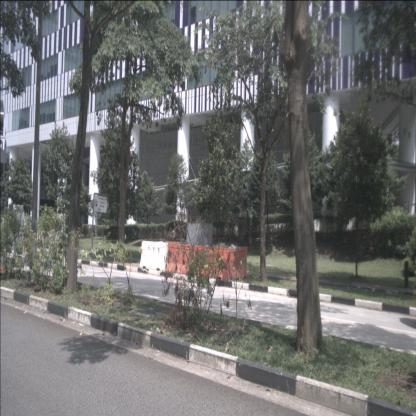barrier: (196, 246, 230, 280), (139, 241, 170, 274), (167, 244, 198, 276), (228, 247, 250, 279)
